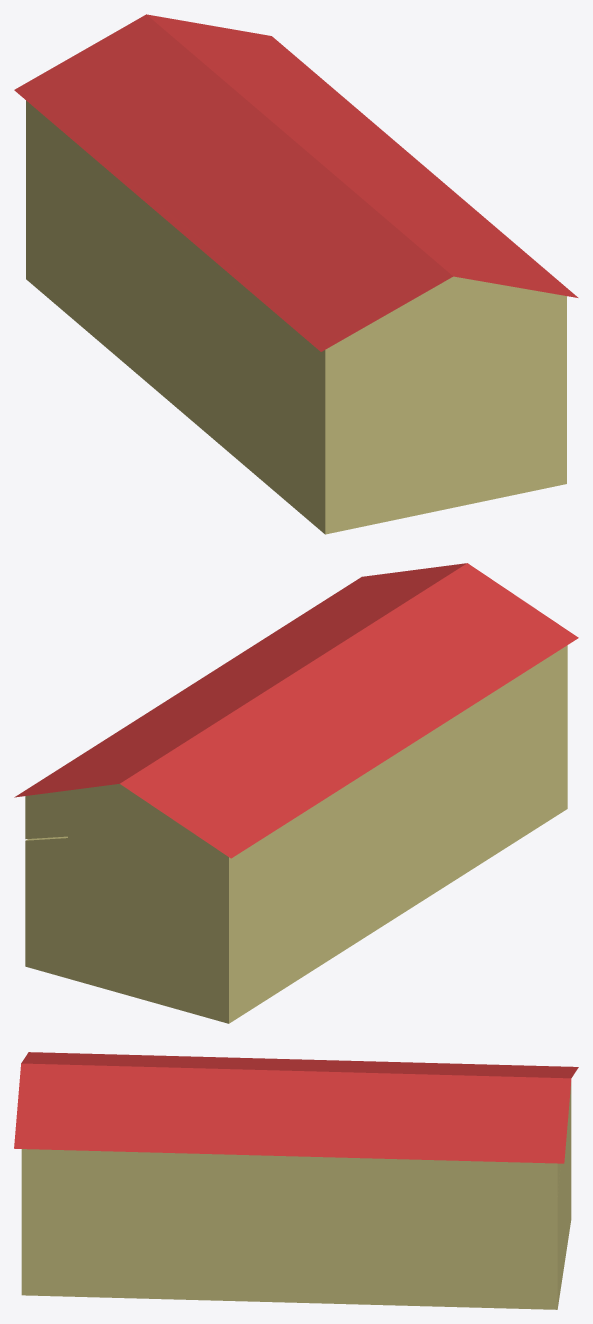
3 renders of one model, top to bottom at view 1: azimuth 30°, elevation 25°; view 2: azimuth 150°, elevation 25°; view 3: azimuth 270°, elevation 25°, orthographic. The views are drawn at different scales.
Size of the model in its own units: 18.37 by 39.31 by 14.4.
